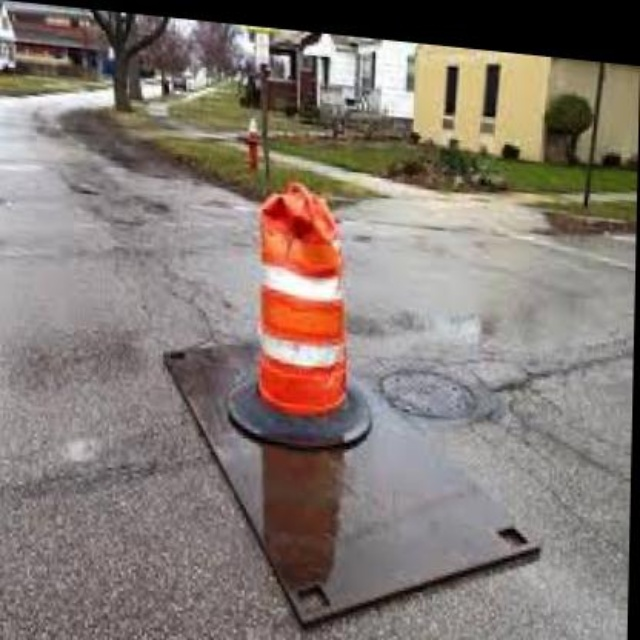obstacle: (240, 176, 358, 419)
